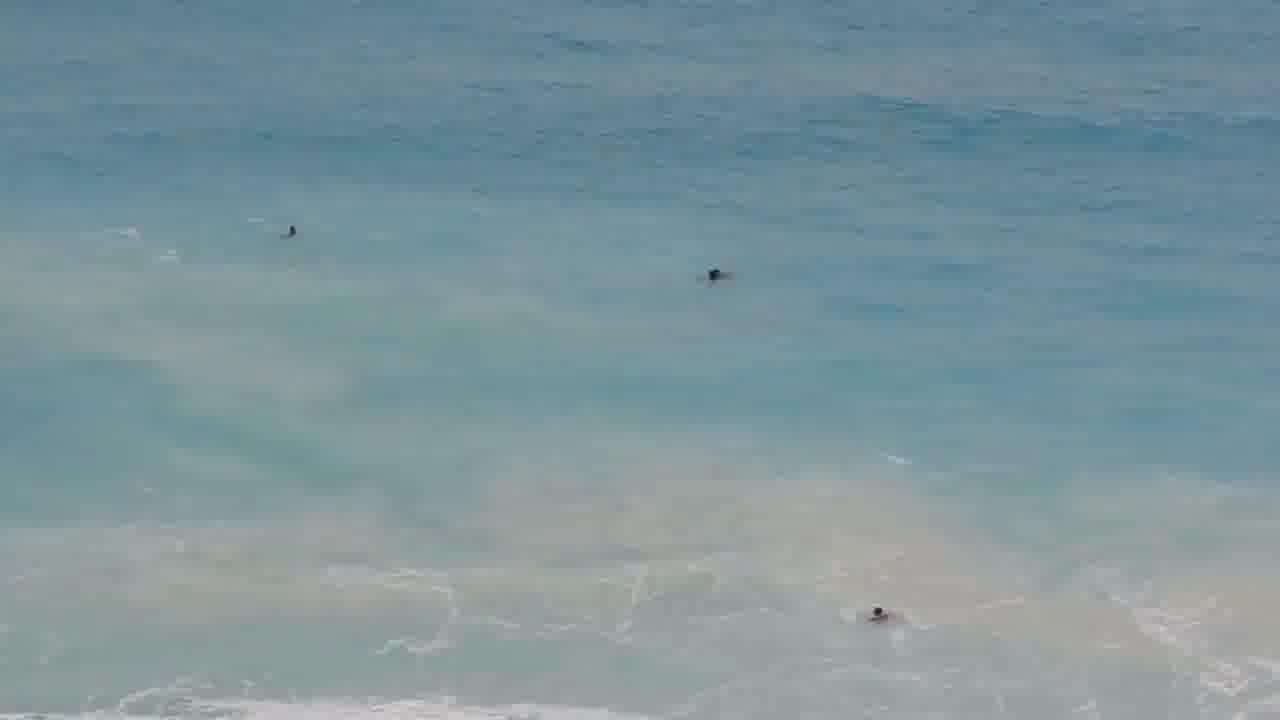human: (690, 260, 737, 290), (856, 599, 902, 628), (275, 217, 313, 245)
